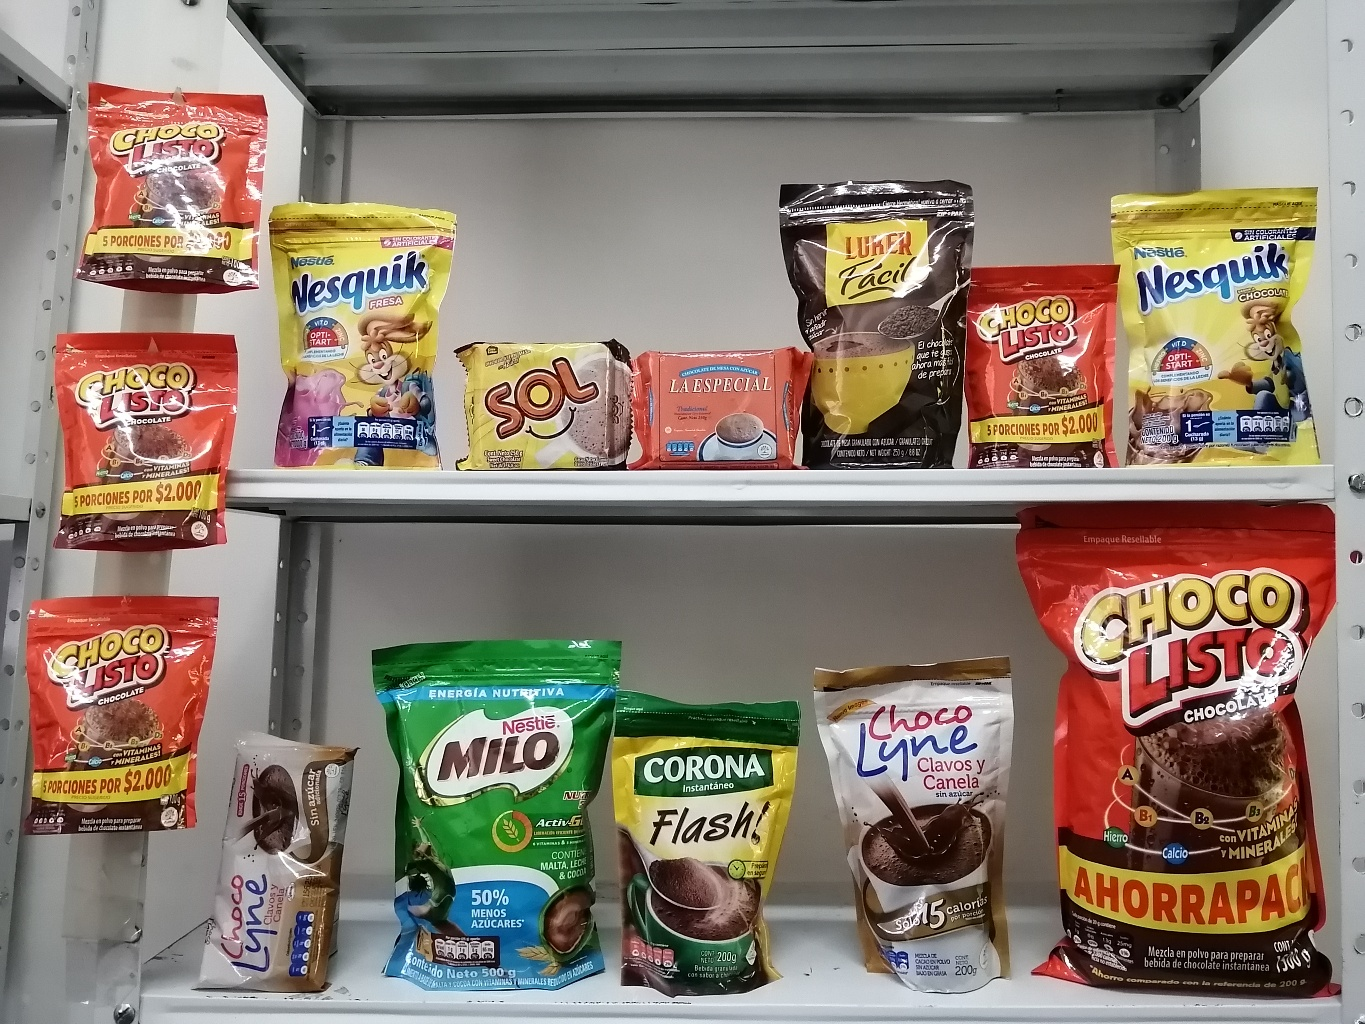COL0170103DYP1,500: (1013, 508, 1354, 1004)
COL0170205DYP50000: (379, 626, 620, 989)
COL0170303DYP20000: (1115, 177, 1339, 467)
COL0170305DYP20000: (255, 207, 452, 458)
